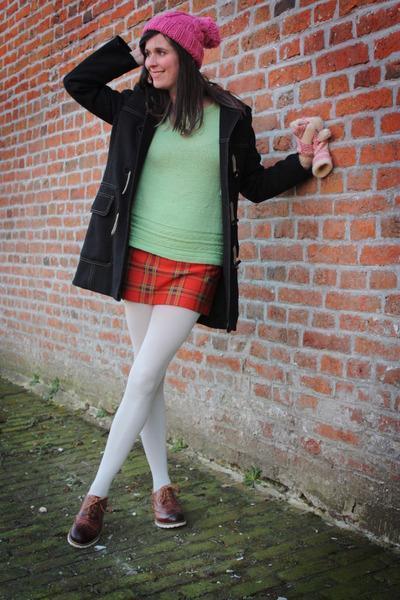hat: (144, 12, 219, 59)
jacket: (63, 36, 313, 332)
pants: (89, 302, 199, 491)
shirt: (133, 103, 221, 264)
shoe: (68, 482, 194, 549)
skirt: (124, 252, 211, 316)
